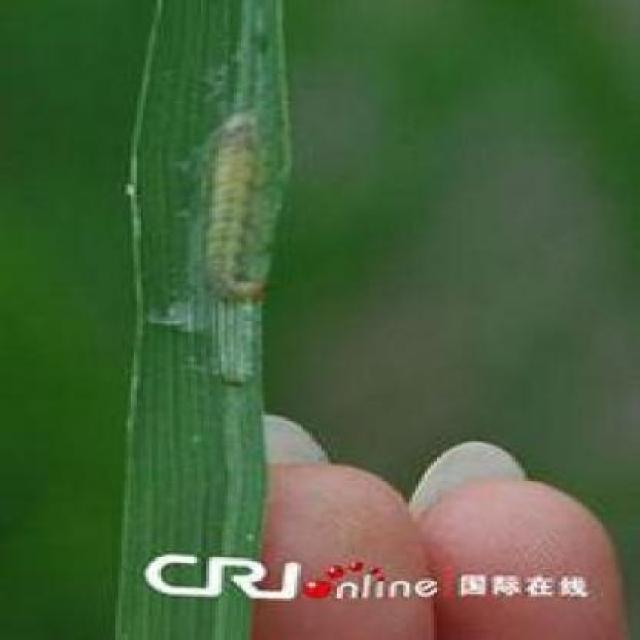leaf-folder: (192, 99, 308, 324)
